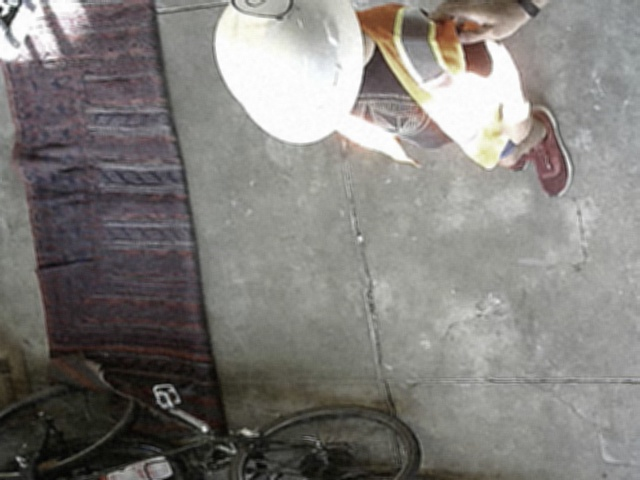two: (227, 0, 294, 19)
